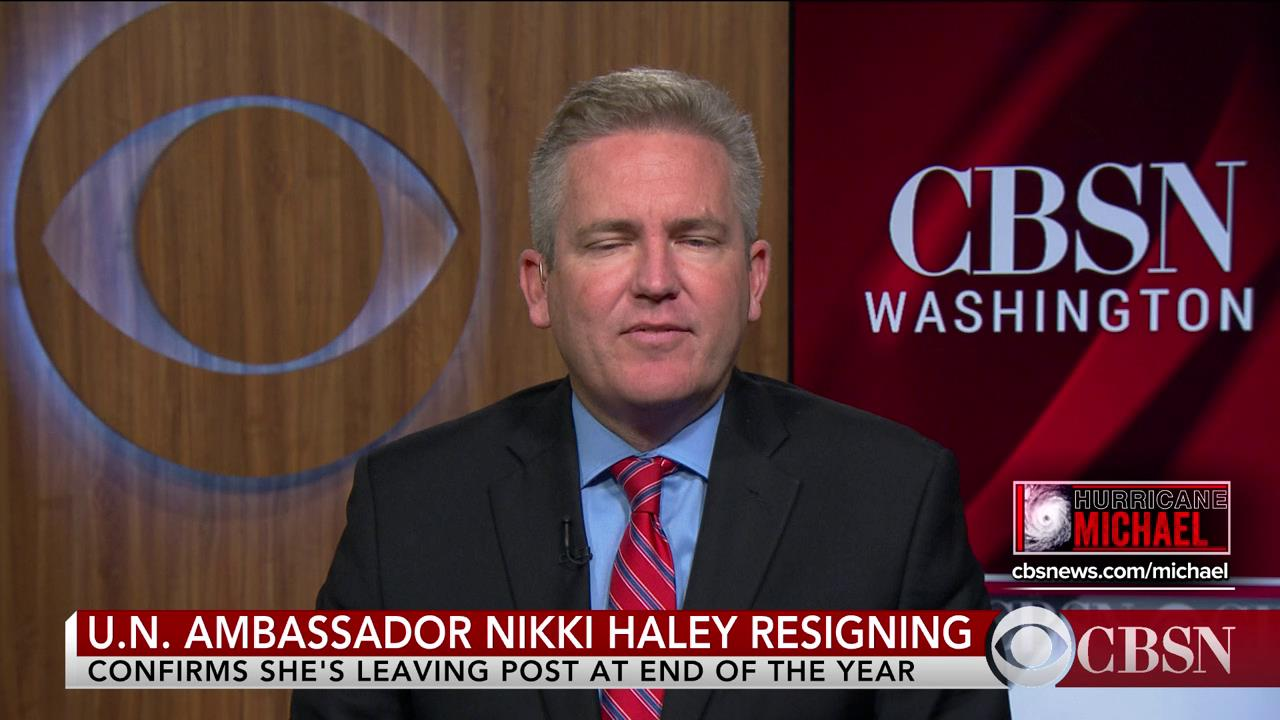CBSN: (887, 162, 1246, 277), (1075, 625, 1240, 677)
CONFIRMS SHE'S LEAVING POST AT END OF THE YEAR: (83, 657, 918, 684)
HURRICANE: (1071, 485, 1229, 512)
MICHAEL: (1070, 510, 1210, 549)
U.N. AMBASSADOR NIKKY HALEY RESIGNING: (84, 612, 977, 652)
WASHINGTON: (860, 288, 1258, 335)
cbsnews.com/michael: (1010, 561, 1231, 582)
